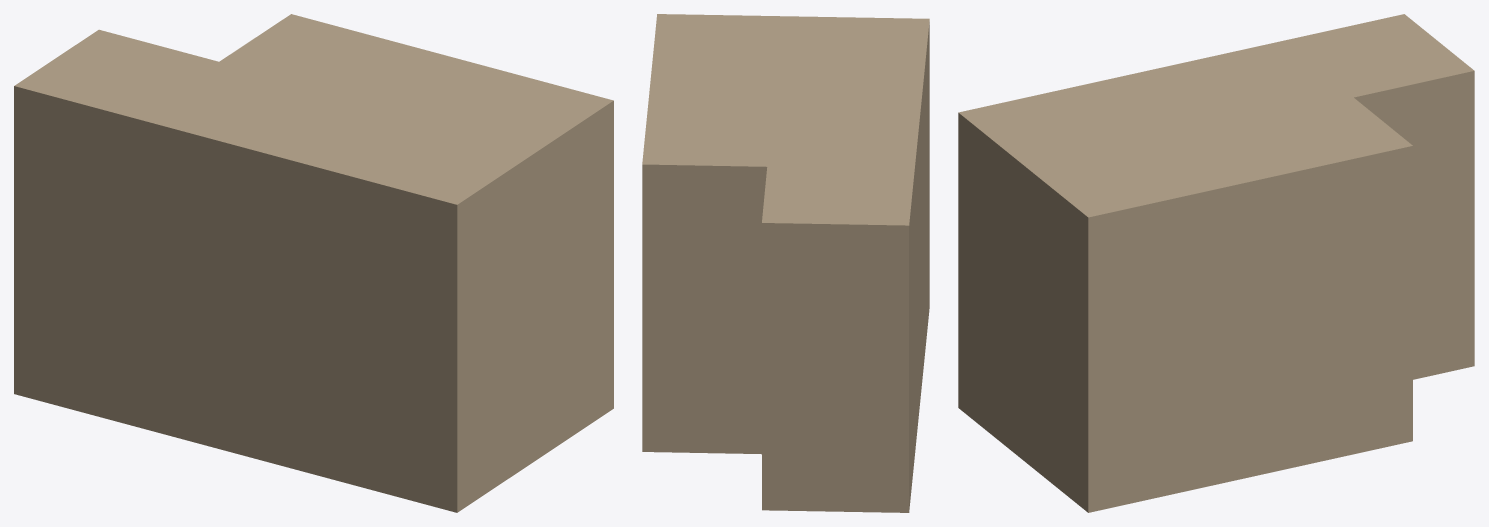
The model's file is bld_101805798.dae.
3 views of the same model, side by side, from view 1: azimuth 30°, elevation 25°; view 2: azimuth 150°, elevation 25°; view 3: azimuth 270°, elevation 25° (orthographic). The views are drawn at different scales.
Parts seen in each view (by area): view 1: bld_101805798; view 2: bld_101805798; view 3: bld_101805798.
Part boxes in pixels (x1=…): bld_101805798: x1=14, y1=14, x2=613, y2=512; bld_101805798: x1=642, y1=14, x2=929, y2=512; bld_101805798: x1=958, y1=14, x2=1474, y2=512.
Bounding box in the file's own units: 11.82 × 12.67 × 8.
